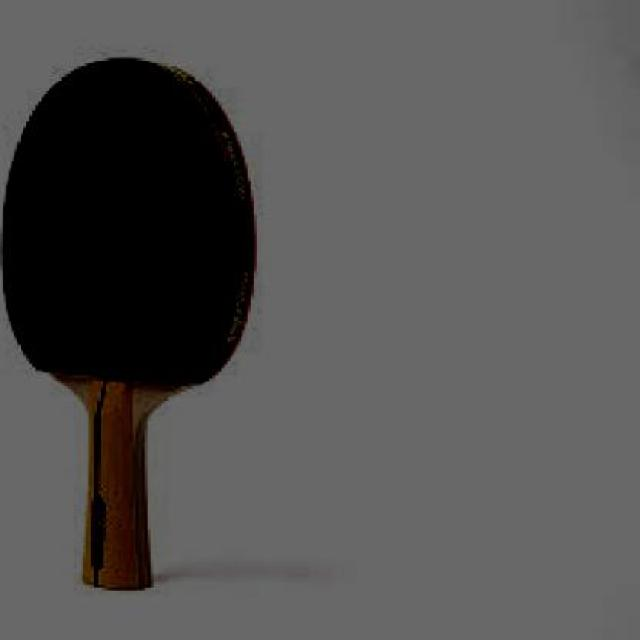table_tennis_racket: (0, 58, 258, 589)
